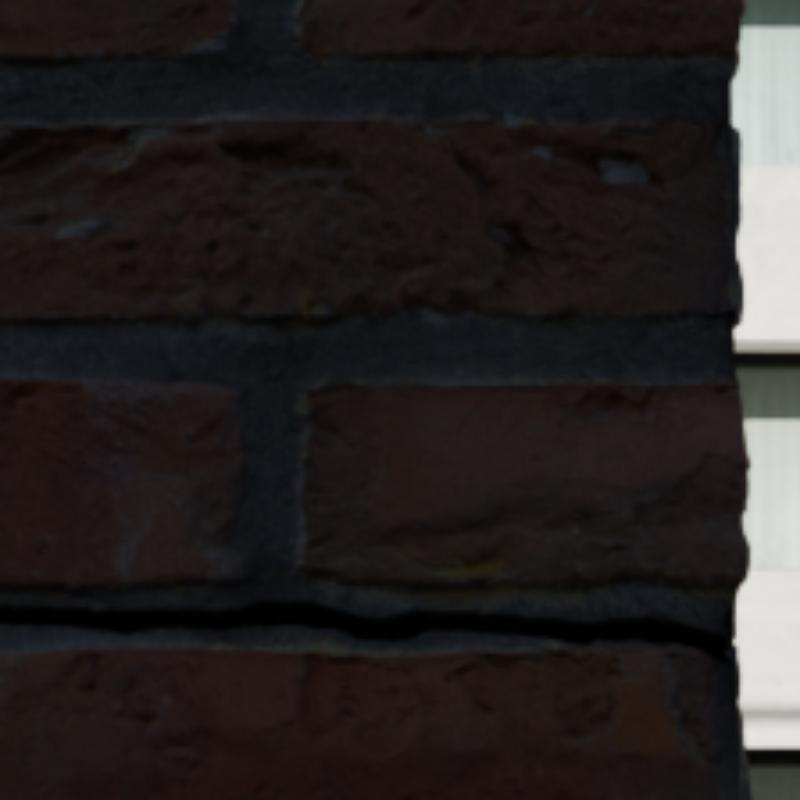pothole: (0, 600, 725, 661)
